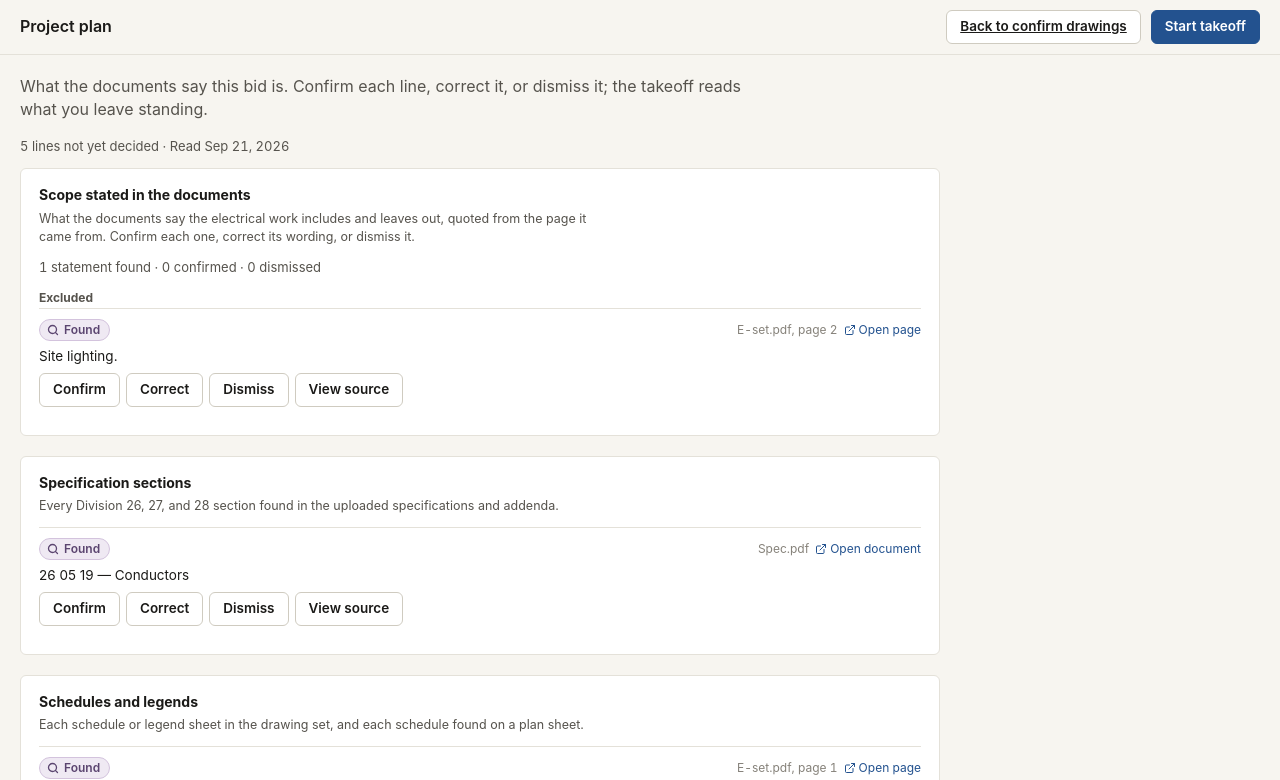
PlanWorkspace › shows the server's refusal next to the button
Click the button "Start takeoff": {"x": 1205, "y": 27} [1151, 10, 1260, 44]
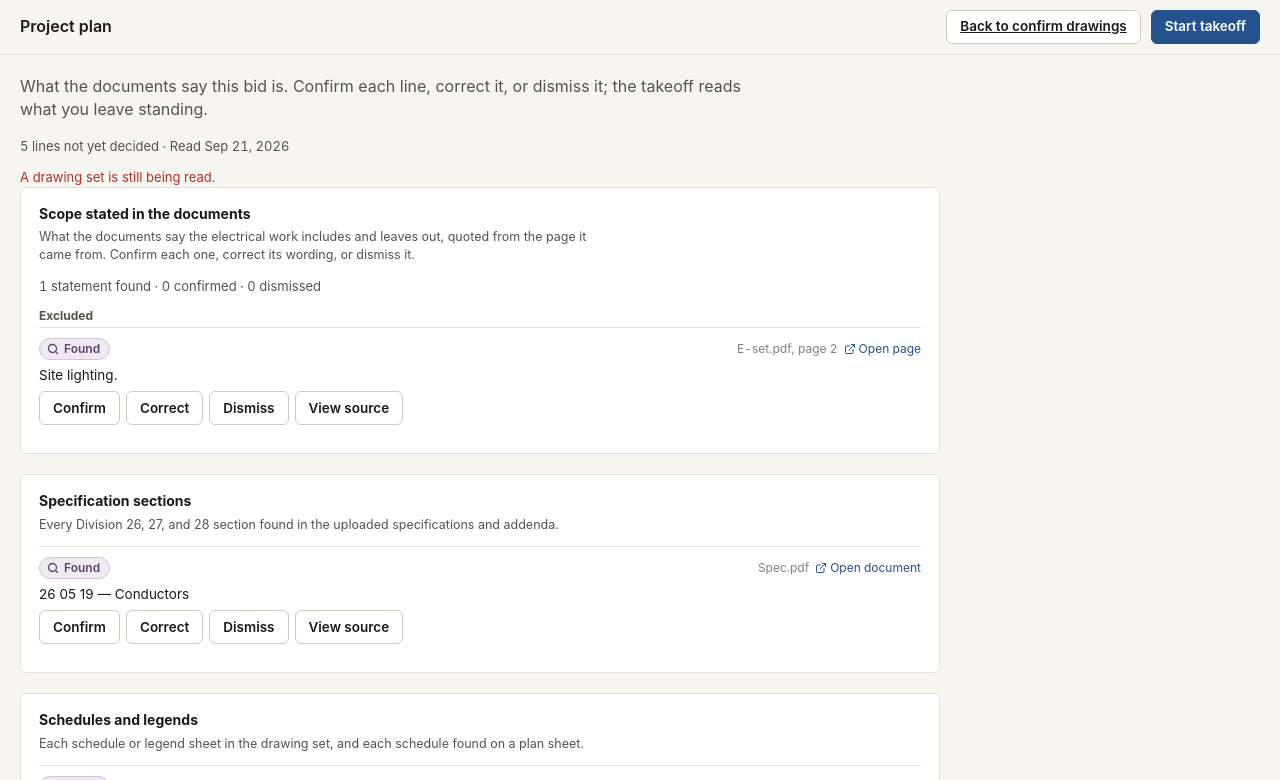
Check: the message reads "A drawing set is still being read.", box [20, 169, 216, 185]
